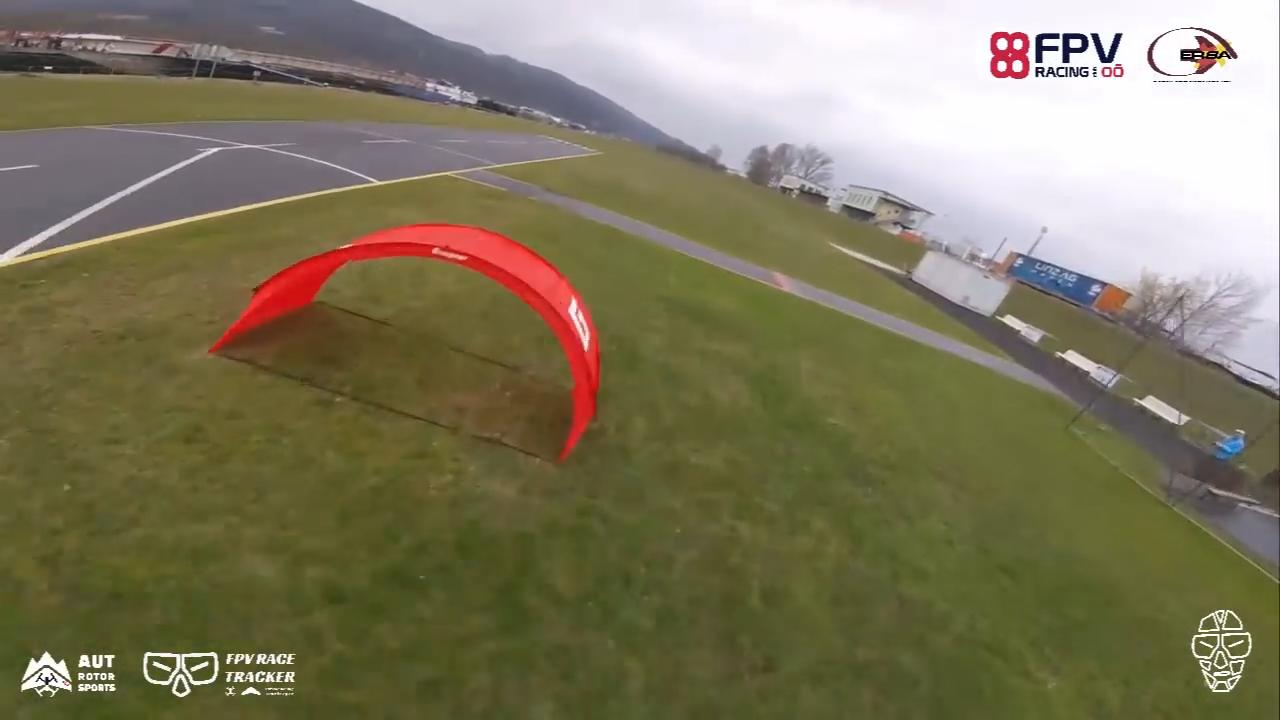gate: (210, 222, 606, 465)
